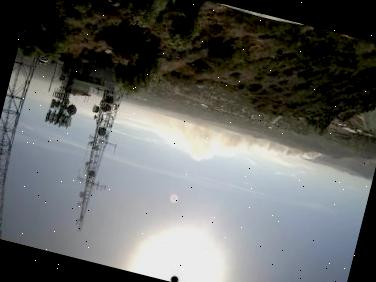smoke: (145, 110, 325, 191)
